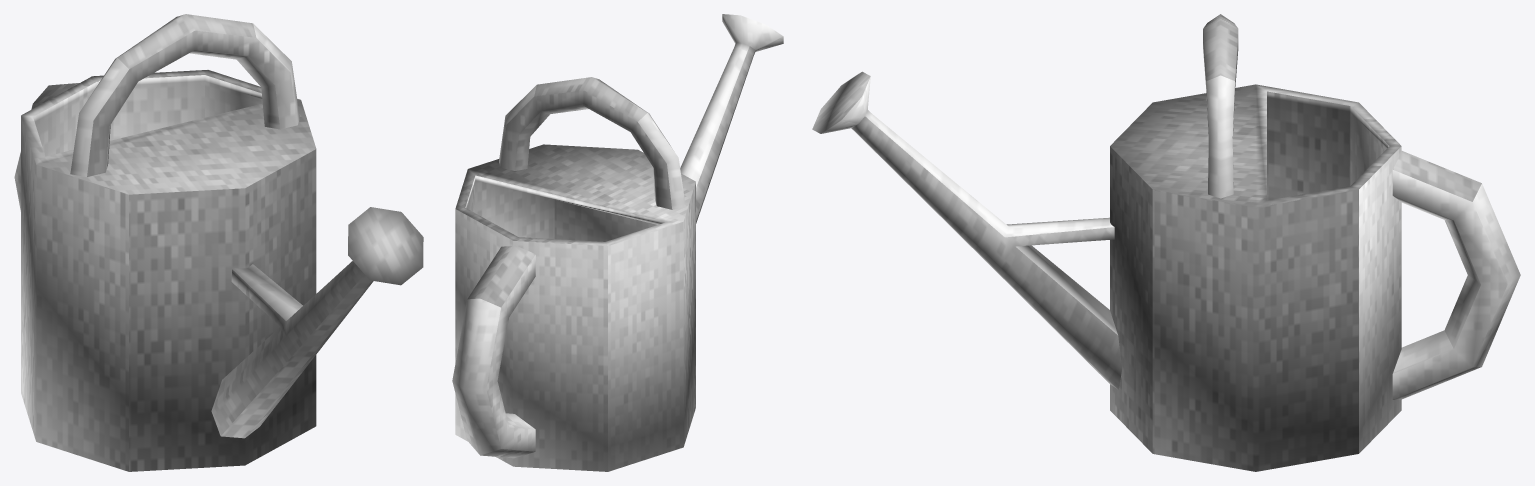
File: WaterCan.fbx
The picture shows the model from 3 angles, left to right: view 1: azimuth 30°, elevation 25°; view 2: azimuth 150°, elevation 25°; view 3: azimuth 270°, elevation 25°; orthographic projection. The views are drawn at different scales.
Visible parts, largest first — view 1: WaterCan; view 2: WaterCan; view 3: WaterCan.
Part boxes in pixels (x1,y1,x2,y2): WaterCan: (14,14,423,471); WaterCan: (452,14,783,471); WaterCan: (812,14,1520,471).
Bounding box in the file's own units: 45.93 × 67.8 × 112.
